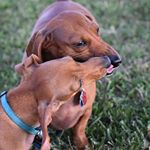puppy: (1, 54, 115, 149), (25, 1, 123, 54)
